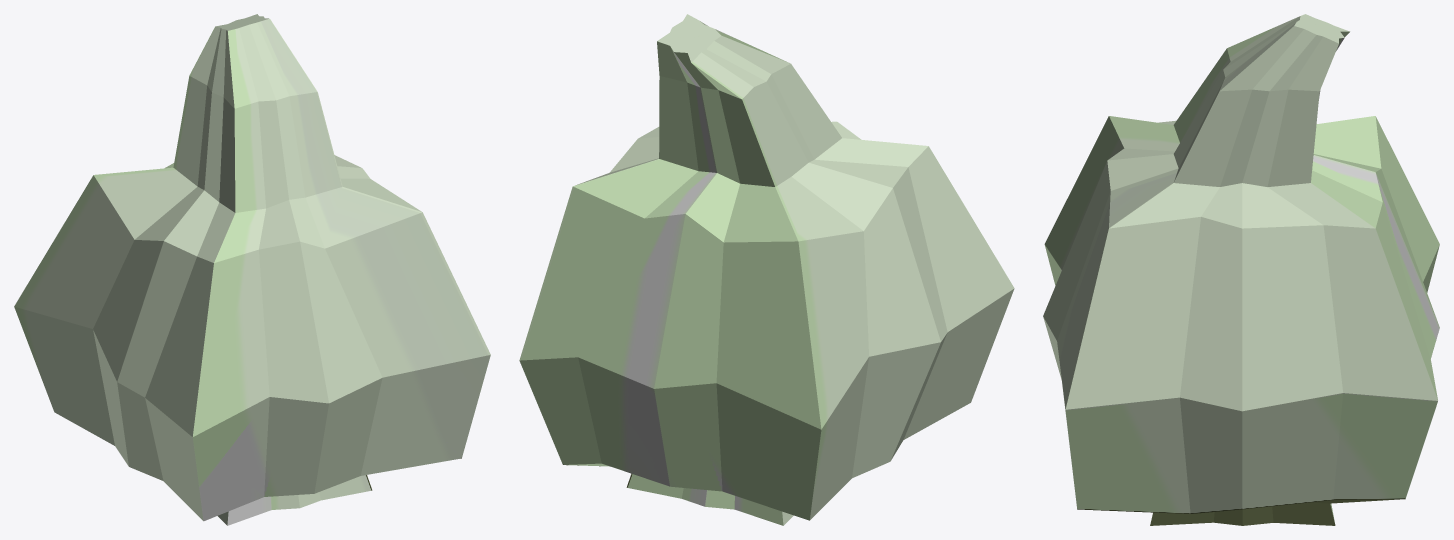
File: Garlic.fbx
The picture shows the model from 3 angles, left to right: view 1: azimuth 30°, elevation 25°; view 2: azimuth 150°, elevation 25°; view 3: azimuth 270°, elevation 25°; orthographic projection. The views are drawn at different scales.
Visible parts, largest first — view 1: Cube; view 2: Cube; view 3: Cube.
Part boxes in pixels (x1=…): Cube: x1=14, y1=14, x2=490, y2=525; Cube: x1=519, y1=14, x2=1014, y2=525; Cube: x1=1043, y1=14, x2=1439, y2=525.
Bounding box in the file's own units: 353 × 467 × 350.
Materials: 1 (1 with a texture image).
